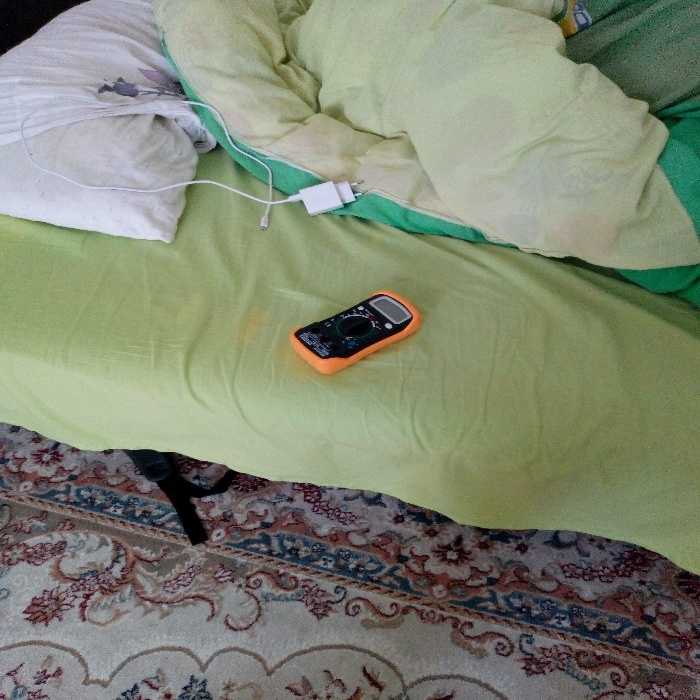multimetre: (290, 283, 432, 373)
